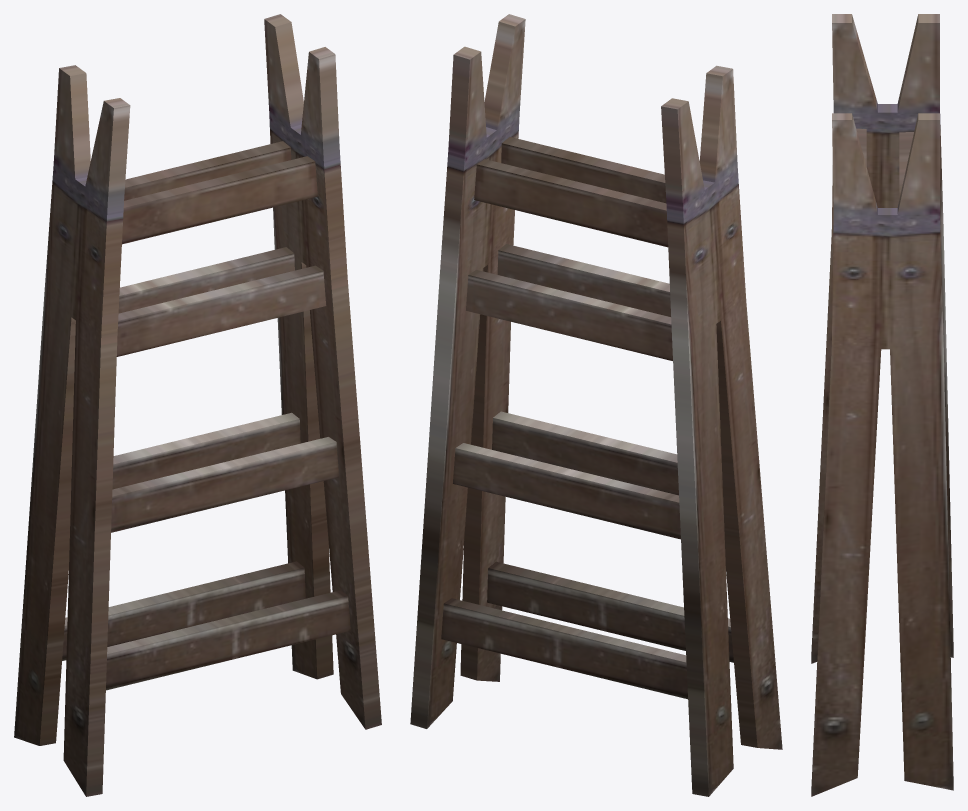
The model's file is Escalera.glb.
3 views of the same model, side by side, from view 1: azimuth 30°, elevation 25°; view 2: azimuth 150°, elevation 25°; view 3: azimuth 270°, elevation 25° (orthographic). The views are drawn at different scales.
Visible parts, largest first — view 1: Cube.072, Cube.071, Cube.073, Cube.074; view 2: Cube.072, Cube.071, Cube.074, Cube.073; view 3: Cube.071, Cube.072, Cube.074.
Boxes of the visible parts, x1,y1,x2,y2 form: Cube.072: (14,65,130,796); Cube.071: (264,14,381,729); Cube.073: (106,156,350,690); Cube.074: (62,141,305,660); Cube.072: (661,65,782,796); Cube.071: (410,14,525,728); Cube.074: (441,159,687,699); Cube.073: (487,137,733,662); Cube.071: (811,113,953,796); Cube.072: (811,14,953,663); Cube.074: (899,132,913,198).
Size of the model in its own units: 0.092 by 0.2 by 0.039.
Materials: 1 (1 with a texture image).
